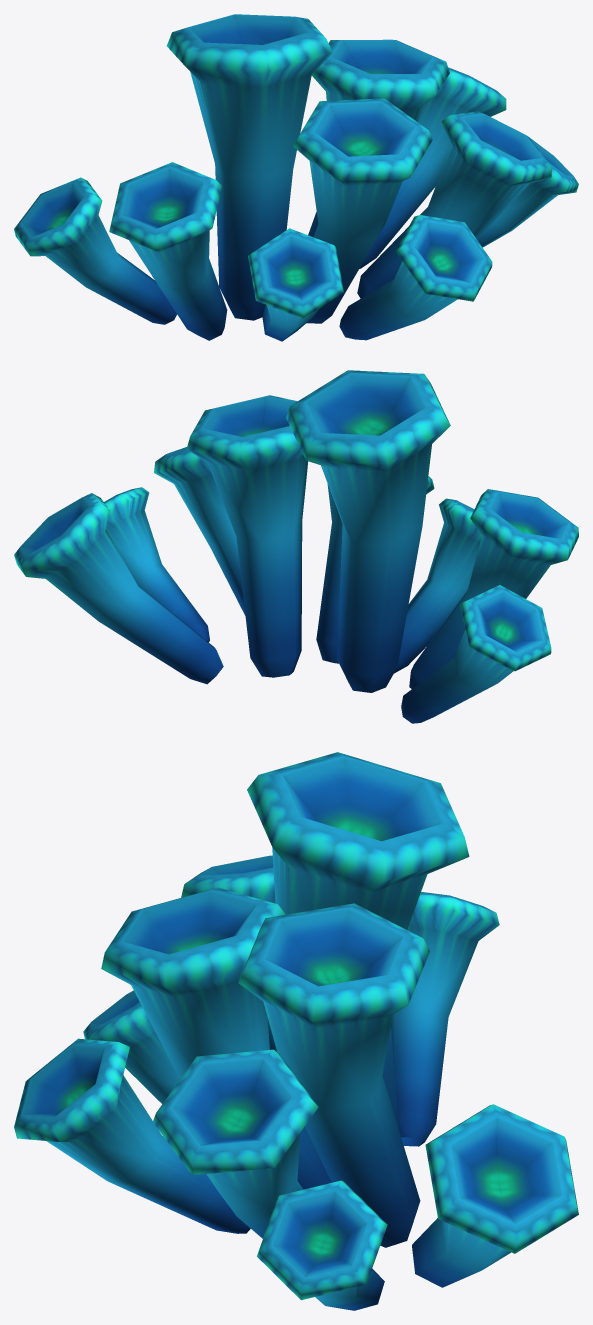
Rendered from Coral_14c.FBX.
3 views of the same model, one above another, from view 1: azimuth 30°, elevation 25°; view 2: azimuth 150°, elevation 25°; view 3: azimuth 270°, elevation 25° (orthographic). The views are drawn at different scales.
Visible parts, largest first — view 1: Coral_14c; view 2: Coral_14c; view 3: Coral_14c.
Boxes of the visible parts, left/top/right/bottom form: Coral_14c: left=14, top=14, right=578, bottom=341; Coral_14c: left=14, top=370, right=578, bottom=723; Coral_14c: left=14, top=752, right=578, bottom=1310.
Size of the model in its own units: 29.12 by 16.47 by 20.54.
